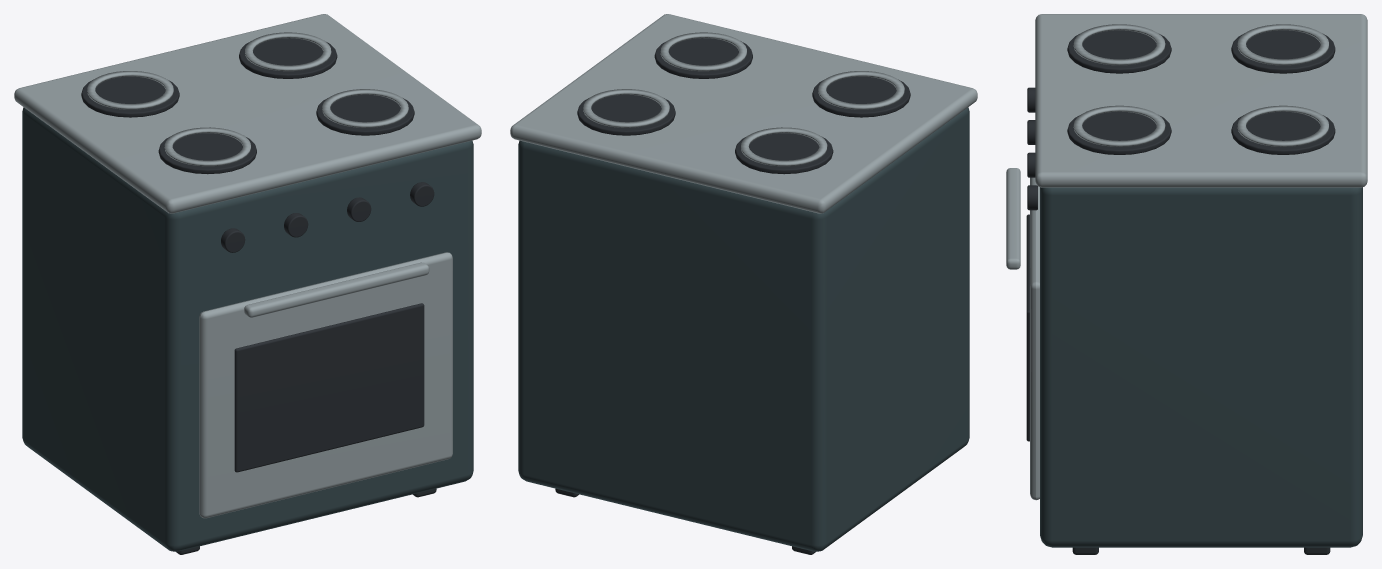
File: HotelTogether-KitchenStove.glb
The picture shows the model from 3 angles, left to right: view 1: azimuth 30°, elevation 25°; view 2: azimuth 150°, elevation 25°; view 3: azimuth 270°, elevation 25°; orthographic projection. The views are drawn at different scales.
Visible parts, largest first — view 1: Stove_Body, Stove_Top, Stove_OvenDoor, Stove_Window, Stove_Handle, Stove_Burner.001, Stove_Burner.002, Stove_Burner.003, Stove_Burner, Stove_Ring, Stove_Ring.003, Stove_Ring.001 (+1 smaller); view 2: Stove_Body, Stove_Top, Stove_Burner, Stove_Burner.003, Stove_Burner.002, Stove_Burner.001, Stove_Ring.001, Stove_Ring.002, Stove_Ring, Stove_Ring.003; view 3: Stove_Body, Stove_Top, Stove_OvenDoor, Stove_Burner.001, Stove_Burner, Stove_Burner.002, Stove_Burner.003, Stove_Handle, Stove_Ring, Stove_Ring.001, Stove_Ring.002, Stove_Ring.003 (+1 smaller).
Part boxes in pixels (left/top/right/bottom): Stove_Body: left=22, top=107, right=473, bottom=551; Stove_Top: left=14, top=14, right=481, bottom=213; Stove_OvenDoor: left=199, top=252, right=452, bottom=518; Stove_Window: left=234, top=303, right=424, bottom=472; Stove_Handle: left=244, top=262, right=429, bottom=317; Stove_Burner.001: left=81, top=76, right=179, bottom=117; Stove_Burner.002: left=316, top=94, right=414, bottom=135; Stove_Burner.003: left=239, top=38, right=337, bottom=78; Stove_Burner: left=158, top=133, right=256, bottom=174; Stove_Ring: left=164, top=127, right=250, bottom=166; Stove_Ring.003: left=245, top=32, right=331, bottom=71; Stove_Ring.001: left=87, top=71, right=173, bottom=109; Stove_Body: left=518, top=107, right=969, bottom=551; Stove_Top: left=510, top=14, right=977, bottom=213; Stove_Burner: left=812, top=76, right=910, bottom=117; Stove_Burner.003: left=577, top=94, right=675, bottom=135; Stove_Burner.002: left=654, top=38, right=752, bottom=78; Stove_Burner.001: left=735, top=133, right=833, bottom=174; Stove_Ring.001: left=741, top=127, right=827, bottom=166; Stove_Ring.002: left=660, top=32, right=746, bottom=71; Stove_Ring: left=818, top=71, right=904, bottom=109; Stove_Ring.003: left=583, top=89, right=669, bottom=127; Stove_Body: left=1040, top=187, right=1362, bottom=547; Stove_Top: left=1035, top=14, right=1367, bottom=187; Stove_OvenDoor: left=1030, top=177, right=1039, bottom=500; Stove_Burner.001: left=1231, top=30, right=1335, bottom=73; Stove_Burner: left=1067, top=30, right=1171, bottom=73; Stove_Burner.002: left=1067, top=111, right=1171, bottom=154; Stove_Burner.003: left=1231, top=111, right=1335, bottom=154; Stove_Handle: left=1006, top=168, right=1020, bottom=269; Stove_Ring: left=1073, top=24, right=1165, bottom=65; Stove_Ring.001: left=1237, top=24, right=1328, bottom=65; Stove_Ring.002: left=1073, top=105, right=1165, bottom=146; Stove_Ring.003: left=1237, top=105, right=1328, bottom=146.
Bounding box in the file's own units: 0.8 × 0.928 × 0.75.
